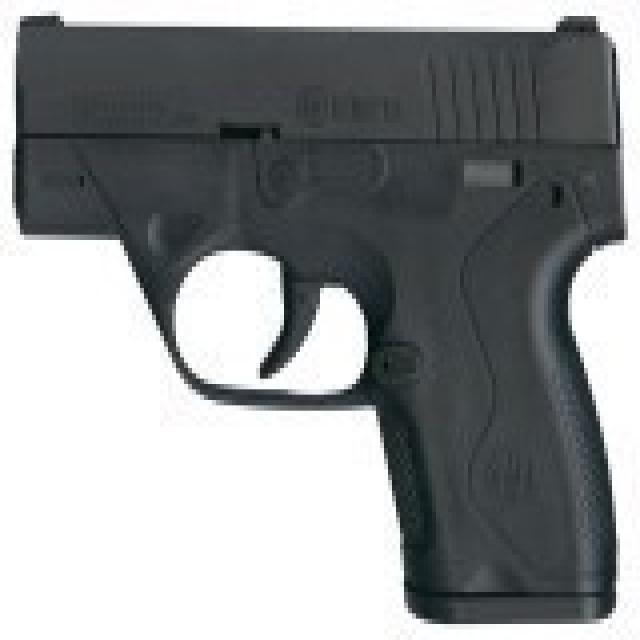Gun: (11, 8, 630, 616)
